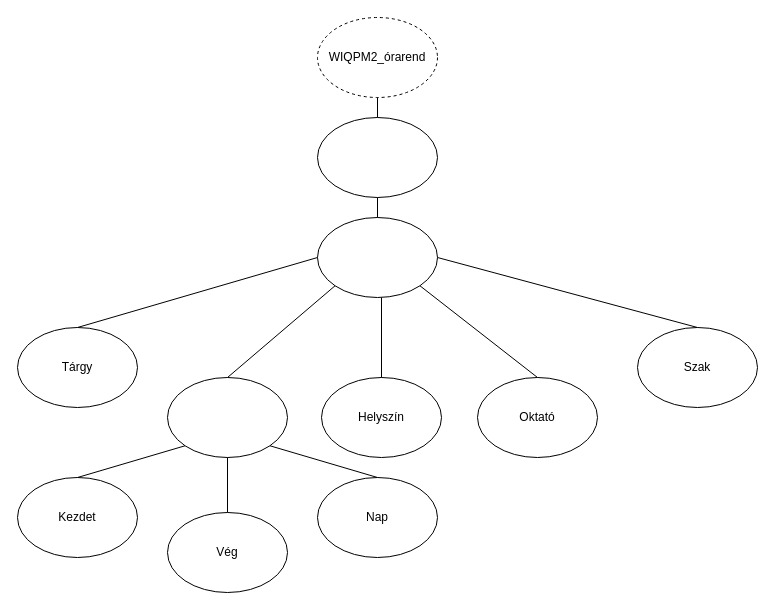
The diagram is 775 pixels wide and 610 high, and some of its shapes have lost their labels. Each missing label, with the centre of its shape:
"Időpont" belongs at point (227, 417).
"Óra" belongs at point (377, 257).
"Órák" belongs at point (377, 157).
